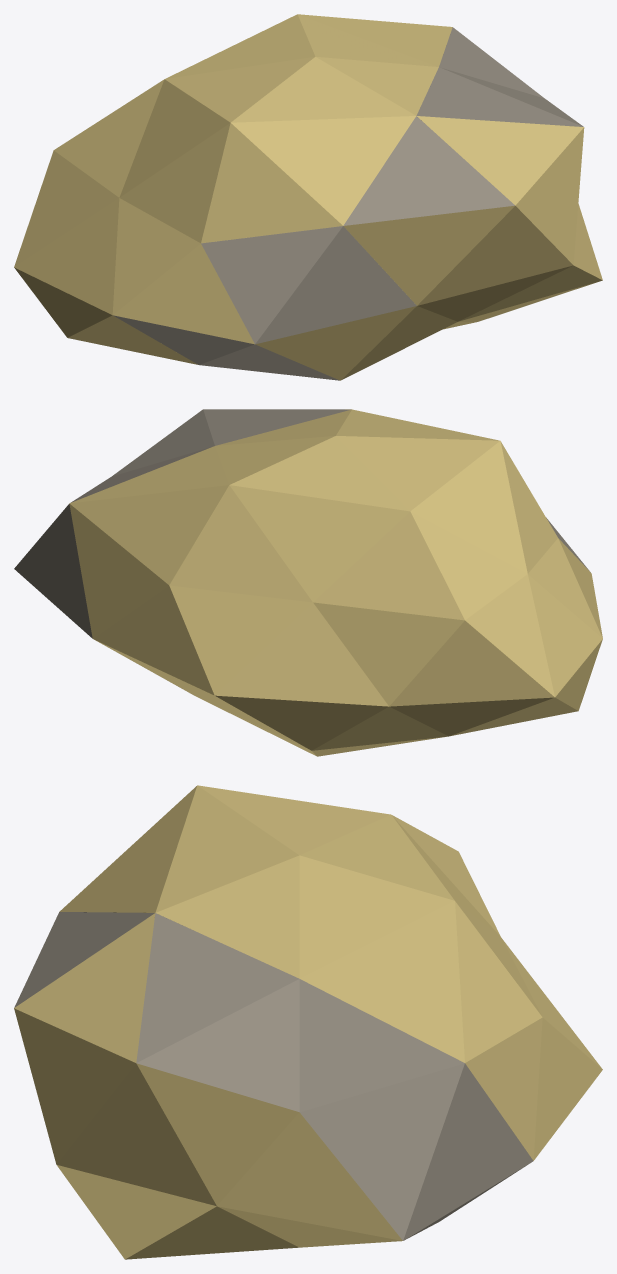
The model's file is Pirita.glb.
The picture shows the model from 3 angles, top to bottom: view 1: azimuth 30°, elevation 25°; view 2: azimuth 150°, elevation 25°; view 3: azimuth 270°, elevation 25°; orthographic projection. The views are drawn at different scales.
Parts seen in each view (by area): view 1: PiedraPirita; view 2: PiedraPirita; view 3: PiedraPirita.
Part boxes in pixels (<box>): PiedraPirita: <box>14,14,602,380</box>; PiedraPirita: <box>14,409,602,756</box>; PiedraPirita: <box>14,785,602,1259</box>.
Bounding box in the file's own units: 0.0738 × 0.0343 × 0.0559.
